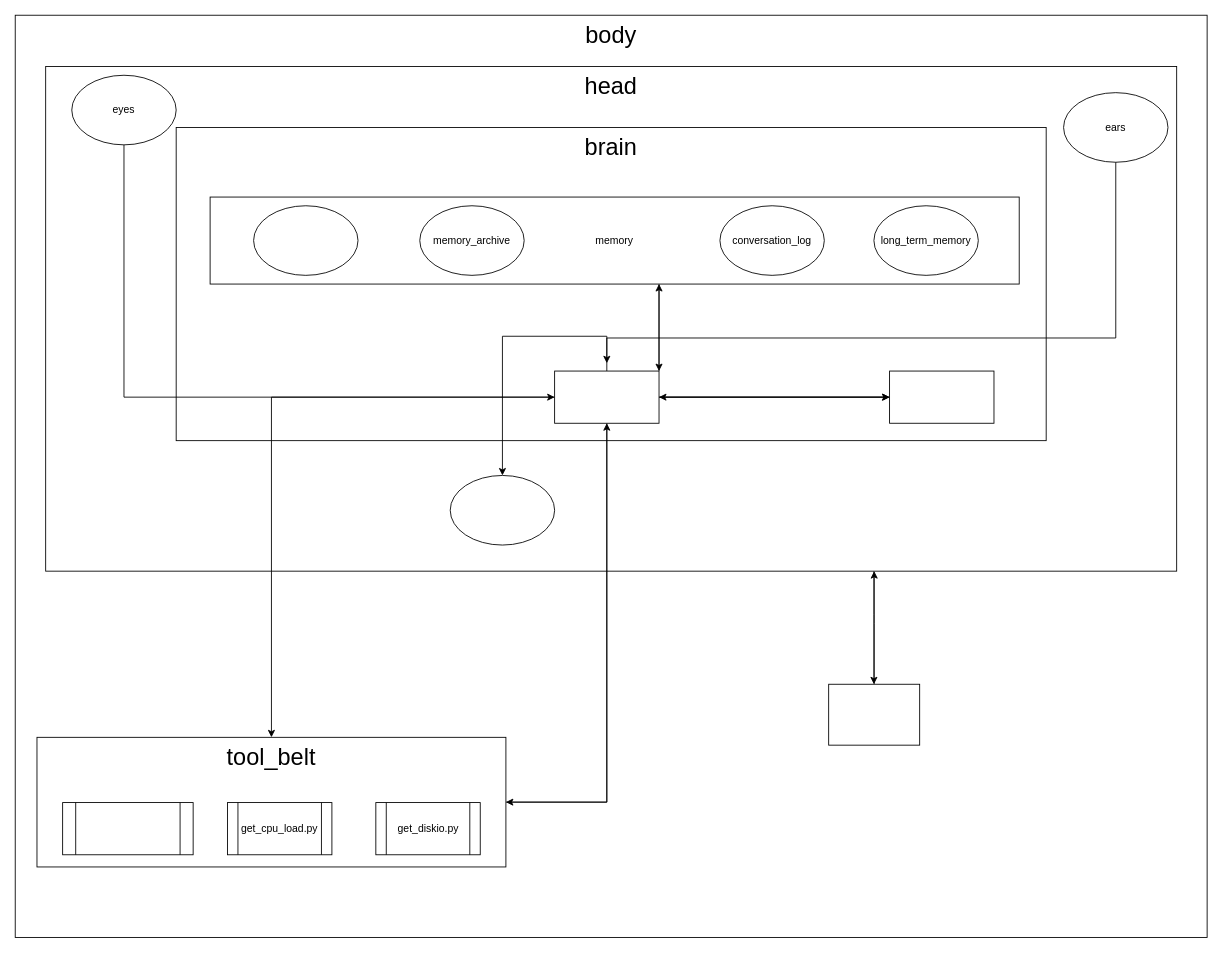
This 1222x953 diagram has some shape labels left out. The centre of each missing label's shape, as x and y in pixels:
"get_memory_info.py" goes at point 127,828.
"heart.py" goes at point 874,714.
"language_center" goes at point 941,396.
"mouth" goes at point 502,510.
"prefrontal_cortex (executive_functions)" goes at point 606,396.
"short_term_memory" goes at point 305,240.
